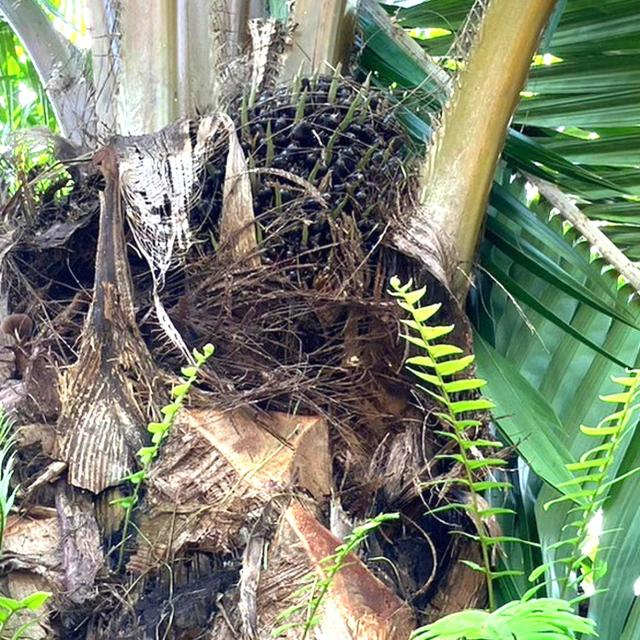unripe: (235, 87, 412, 274)
